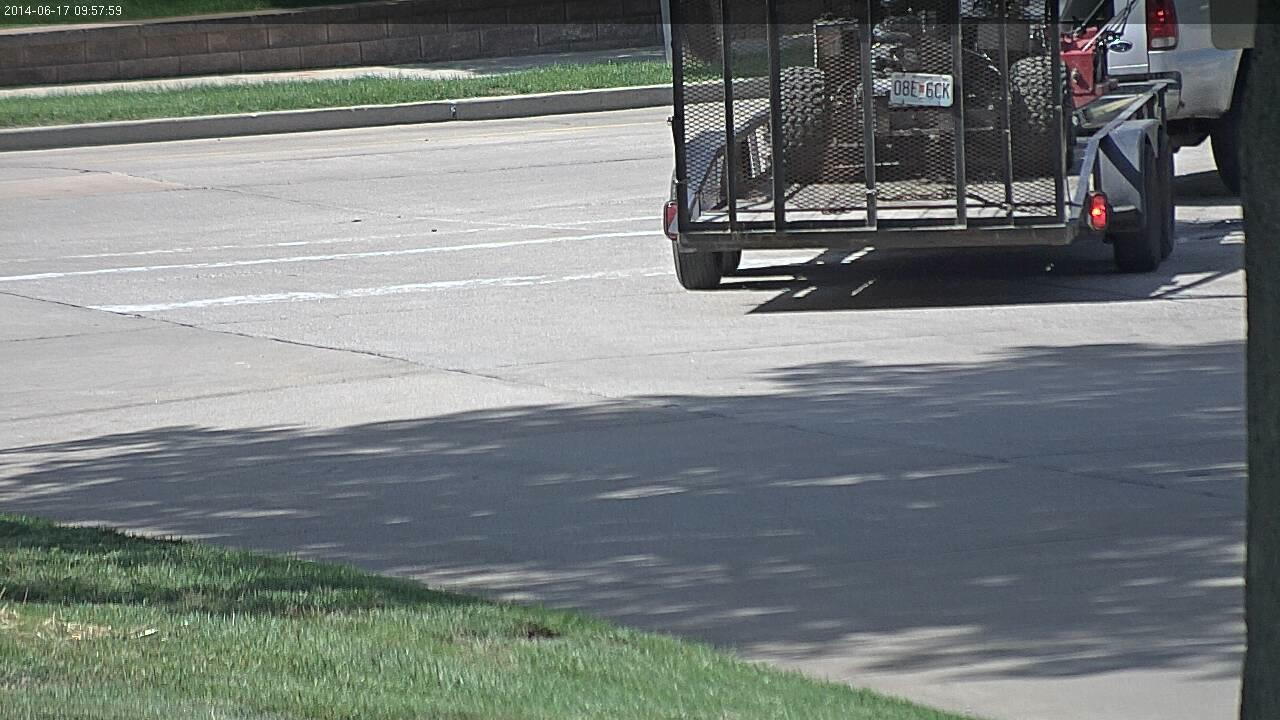placa de veiculo: (883, 59, 957, 122)
